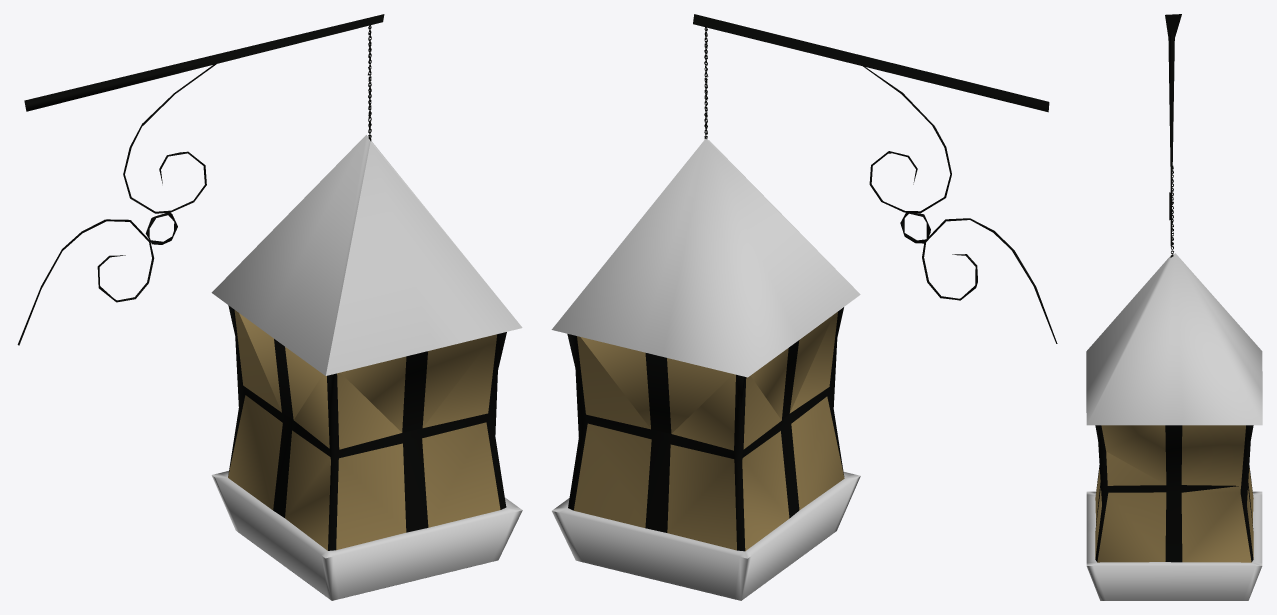
File: Lamp.obj
3 renders of one model, left to right at view 1: azimuth 30°, elevation 25°; view 2: azimuth 150°, elevation 25°; view 3: azimuth 270°, elevation 25°, orthographic. The views are drawn at different scales.
Visible parts, largest first — view 1: Cube.000_Cube.001; view 2: Cube.000_Cube.001; view 3: Cube.000_Cube.001.
Part boxes in pixels (x1=…): Cube.000_Cube.001: x1=17, y1=14, x2=522, y2=600; Cube.000_Cube.001: x1=551, y1=14, x2=1057, y2=600; Cube.000_Cube.001: x1=1086, y1=14, x2=1262, y2=600.
Bounding box in the file's own units: 0.9477 × 1.11 × 0.4165.
